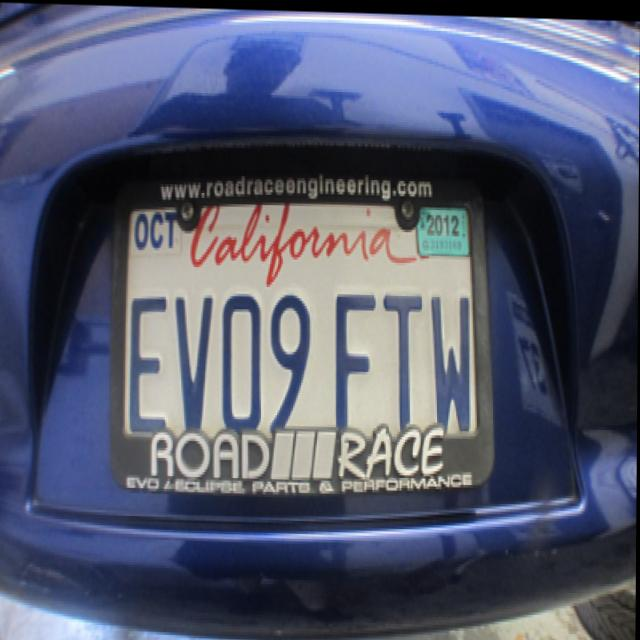licence: (111, 172, 490, 482)
